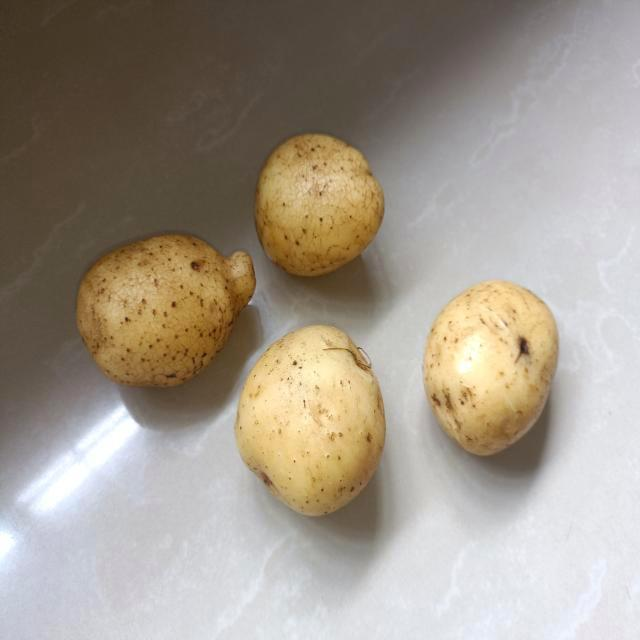potato: (230, 319, 389, 514), (73, 228, 256, 397), (423, 272, 563, 460), (250, 126, 387, 282)
